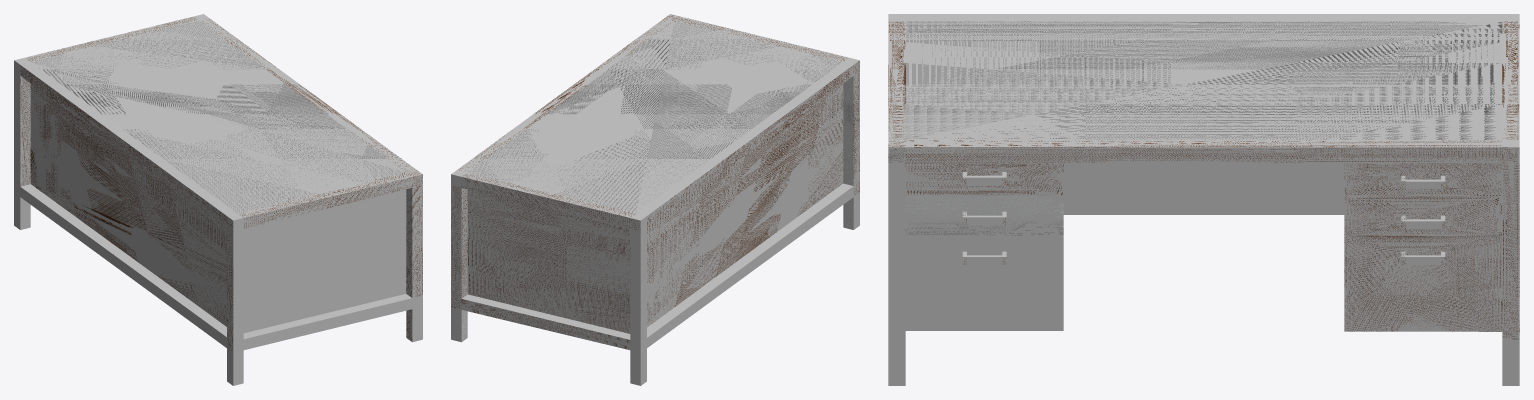
3 views of the same model, side by side, from view 1: azimuth 30°, elevation 25°; view 2: azimuth 150°, elevation 25°; view 3: azimuth 270°, elevation 25° (orthographic). The views are drawn at different scales.
Visible parts, largest first — view 1: mesh1_mesh1-geometry; view 2: mesh1_mesh1-geometry; view 3: mesh1_mesh1-geometry.
Boxes of the visible parts, x1,y1,x2,y2 form: mesh1_mesh1-geometry: (14, 14, 422, 385); mesh1_mesh1-geometry: (451, 14, 859, 385); mesh1_mesh1-geometry: (888, 14, 1519, 385).
Size of the model in its own units: 0.4191 by 0.3492 by 0.8381.
